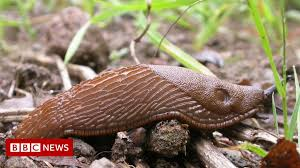slug: (13, 69, 268, 143)
